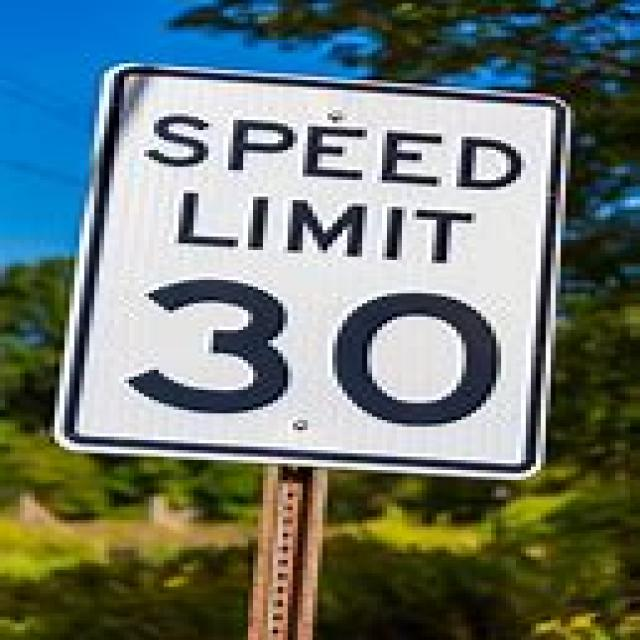speedLimit30: (57, 64, 578, 474)
